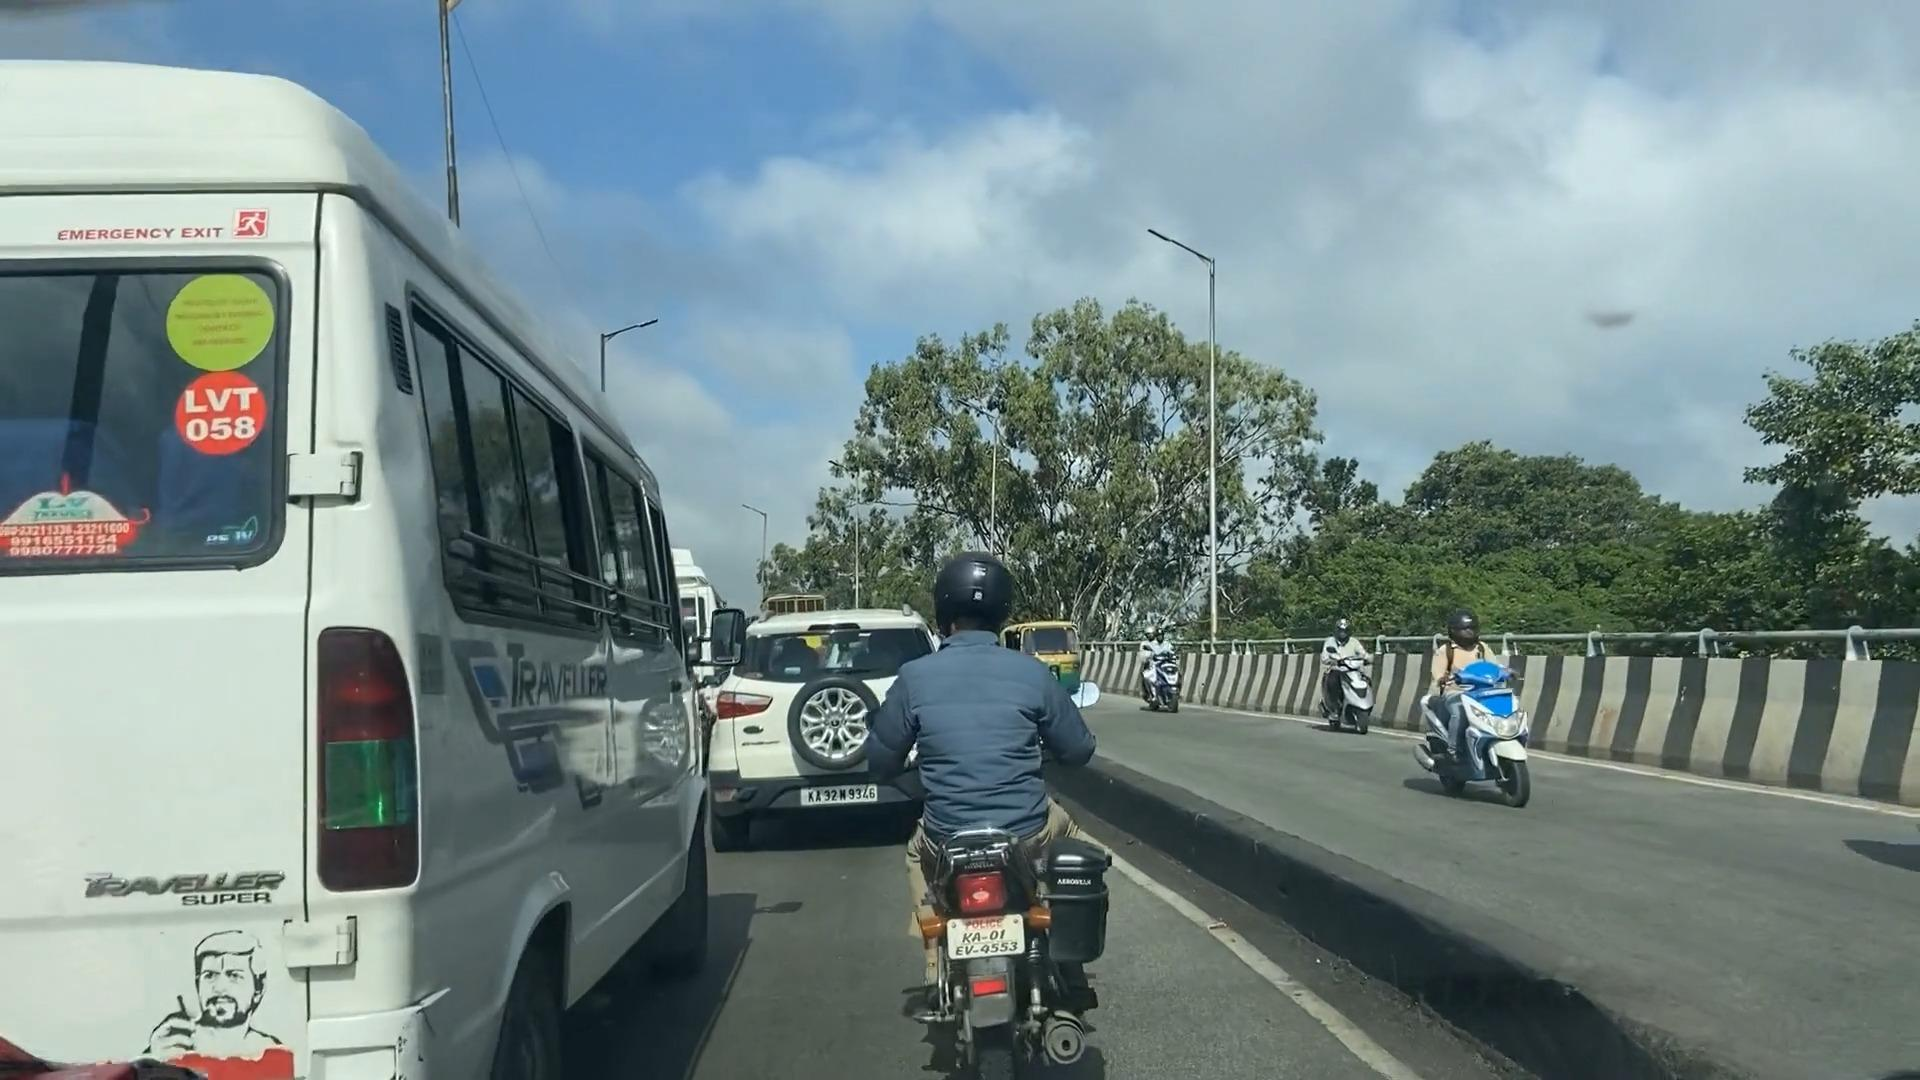HMV: (0, 94, 720, 1068)
LMV: (843, 568, 1108, 1073)
